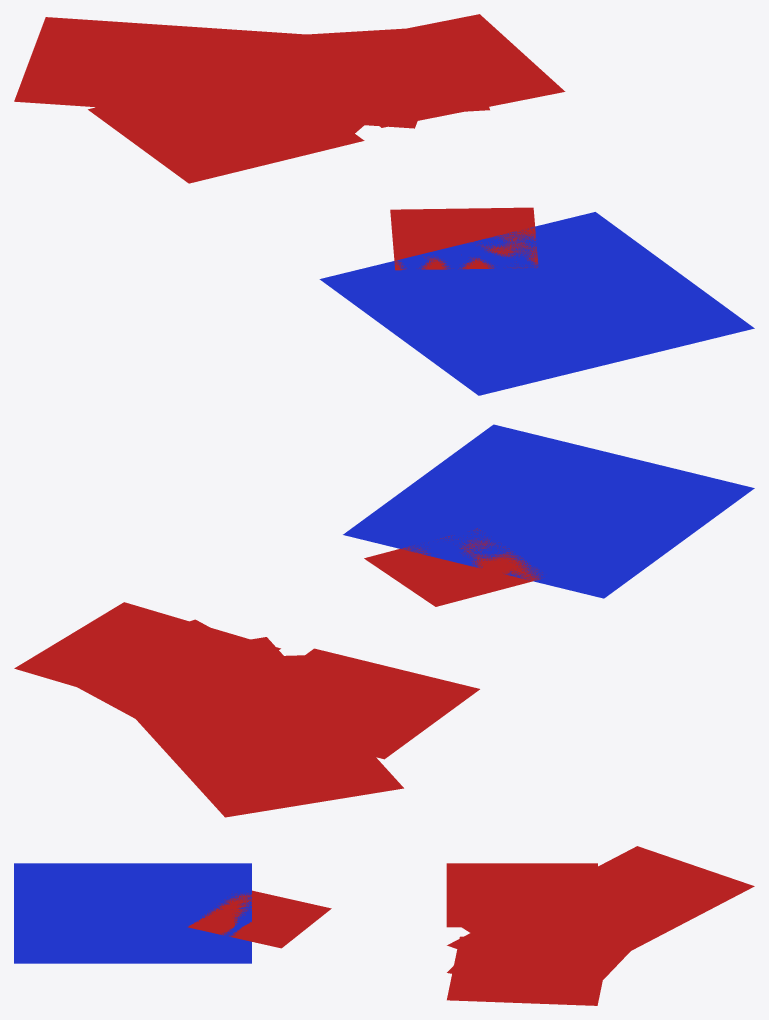
File: instances-matrix.dae
3 views of the same model, one above another, from view 1: azimuth 30°, elevation 25°; view 2: azimuth 150°, elevation 25°; view 3: azimuth 270°, elevation 25° (orthographic). The views are drawn at different scales.
Visible parts, largest first — view 1: Silla (×6), floor; view 2: Silla (×6), floor; view 3: Silla (×6), floor.
Part boxes in pixels (x1,y1,x2,y2): Silla (×6): (14, 14, 565, 270); floor: (319, 212, 754, 395); Silla (×6): (14, 528, 544, 817); floor: (343, 424, 754, 598); Silla (×6): (188, 846, 754, 1005); floor: (14, 863, 251, 963).
Bounding box in the file's own units: 17.49 × 34.25 × 0.
